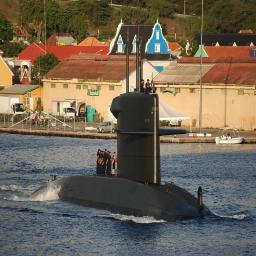submarine: (32, 15, 190, 209)
